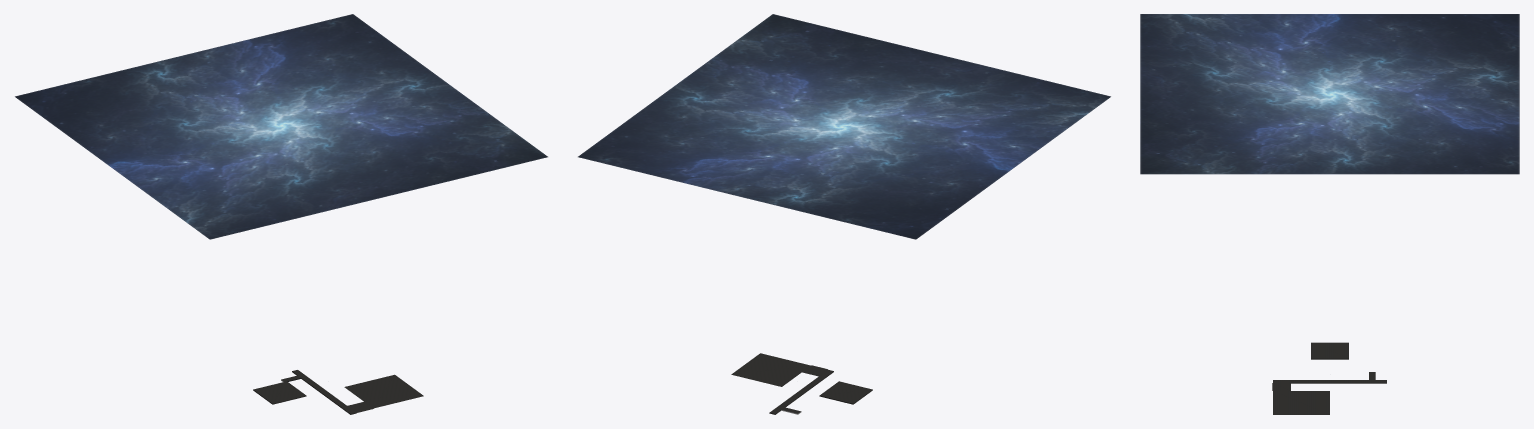
Rendered from MapFloor.obj.
3 renders of one model, left to right at view 1: azimuth 30°, elevation 25°; view 2: azimuth 150°, elevation 25°; view 3: azimuth 270°, elevation 25°, orthographic. The views are drawn at different scales.
Parts seen in each view (by area): view 1: Plane_Plane.007, Plane.008_Plane.010, Entrance_Floor_Cube; view 2: Plane_Plane.007, Plane.008_Plane.010, Entrance_Floor_Cube; view 3: Plane_Plane.007, Plane.008_Plane.010, Entrance_Floor_Cube, Entrance_Floor.008_Cube.002.
Part boxes in pixels (left/top/right/bottom): Plane_Plane.007: left=15, top=14, right=547, bottom=239; Plane.008_Plane.010: left=344, top=374, right=423, bottom=408; Entrance_Floor_Cube: left=253, top=381, right=306, bottom=404; Plane_Plane.007: left=578, top=14, right=1110, bottom=239; Plane.008_Plane.010: left=731, top=353, right=810, bottom=386; Entrance_Floor_Cube: left=819, top=381, right=872, bottom=404; Plane_Plane.007: left=1140, top=14, right=1519, bottom=174; Plane.008_Plane.010: left=1273, top=391, right=1329, bottom=414; Entrance_Floor_Cube: left=1311, top=342, right=1348, bottom=359; Entrance_Floor.008_Cube.002: left=1273, top=380, right=1386, bottom=383.
Size of the model in its own units: 200 by 156 by 200.
